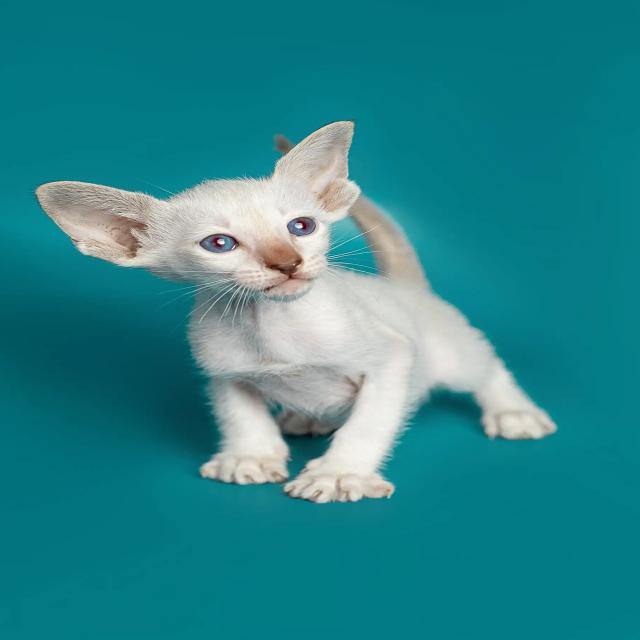Oriental: (31, 116, 566, 507)
